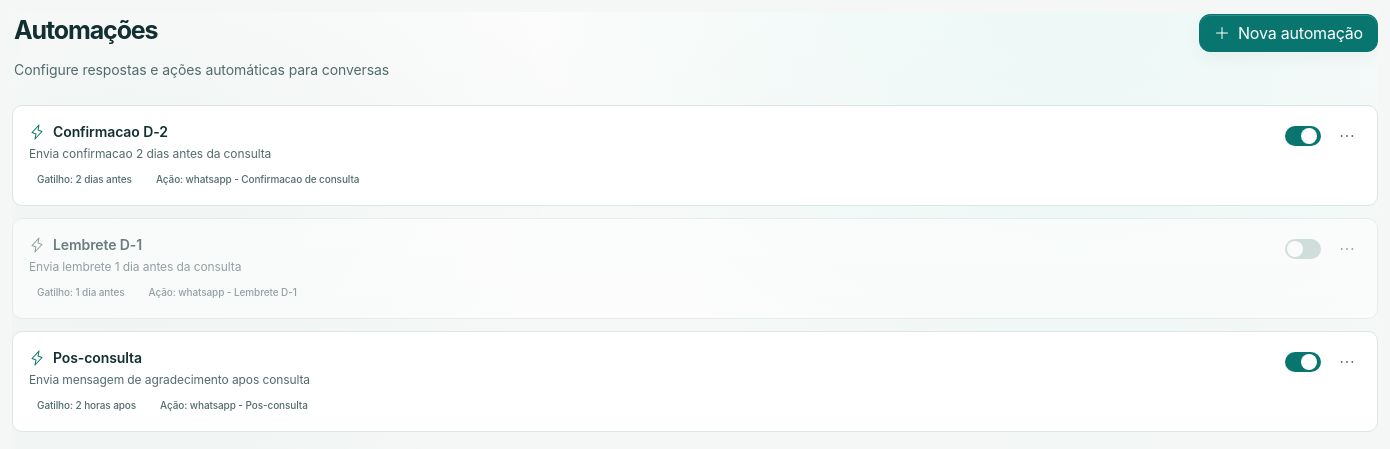
Scenario: tela Automações de Conversa › mostra menu com Editar e Excluir
Expected: the text "Confirmacao D-2" is shown, [53,122,168,142]
# Abrir menu de ações do primeiro card
Click the button named "ações de" at (1347, 136), box [1333,122,1361,150]
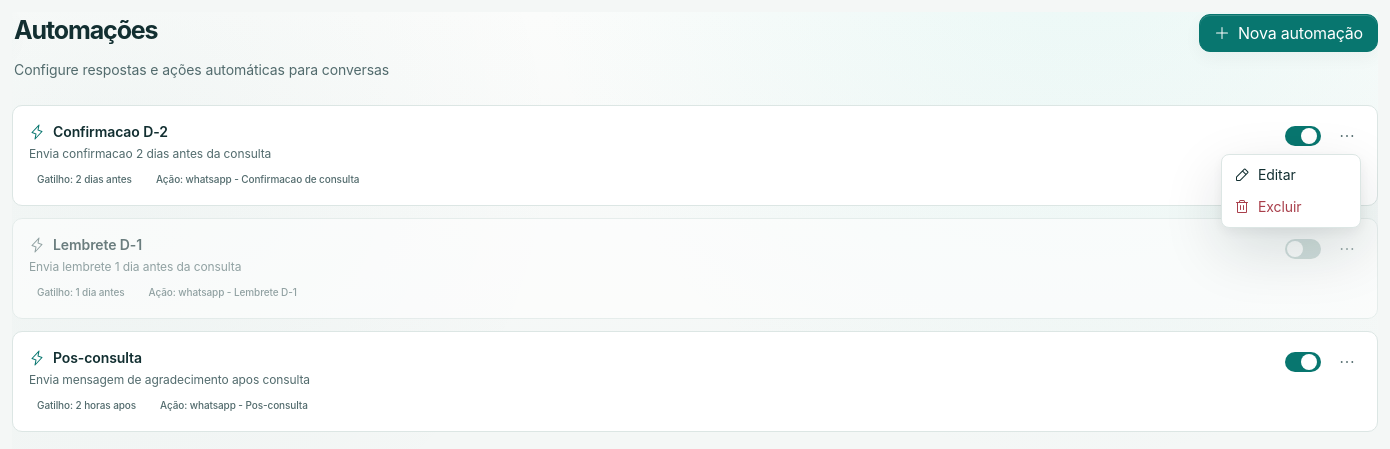
Expected: the menu item "Editar" is shown, [1234,166,1296,183]
Expected: the menu item "Excluir" is shown, [1234,198,1301,215]
